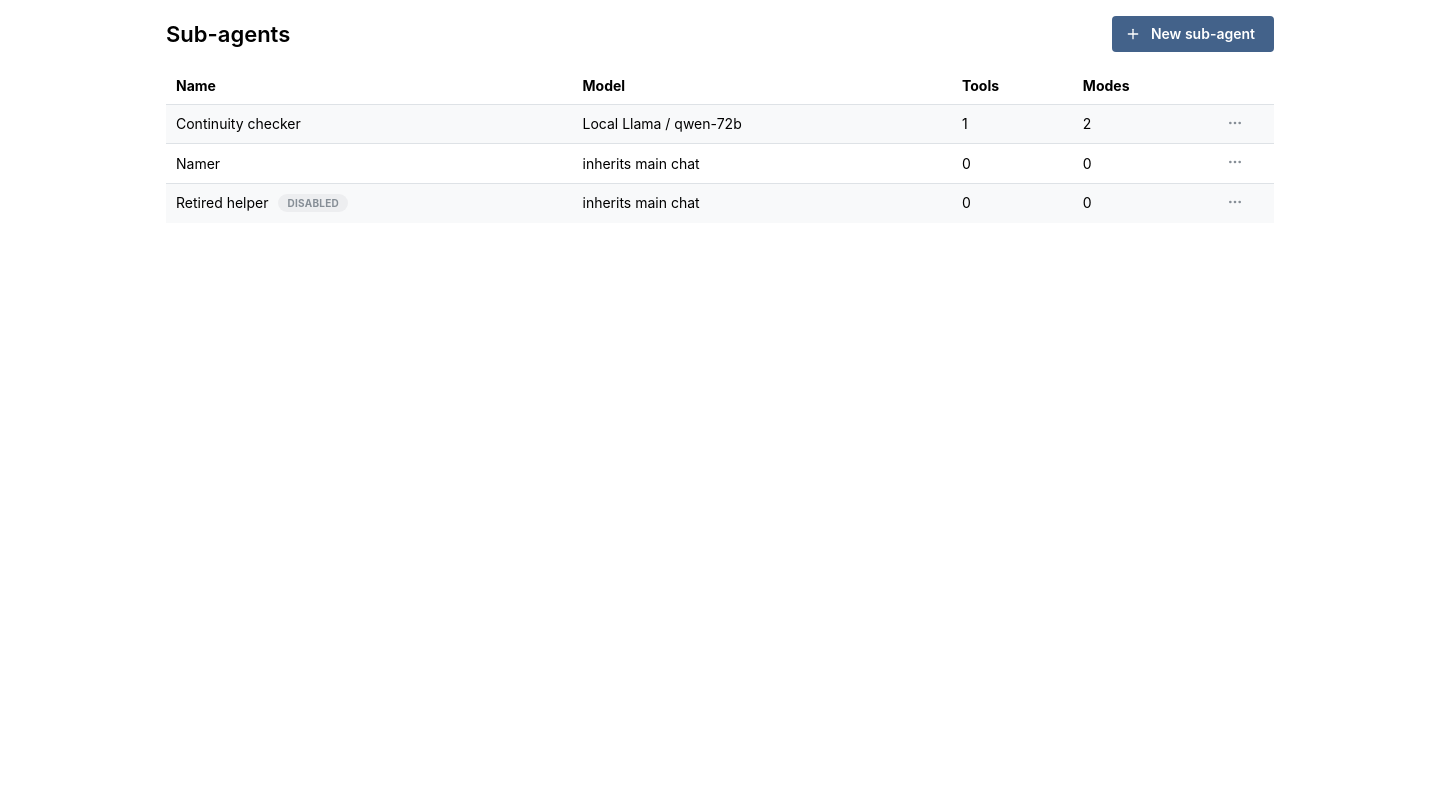
Test case: creating a sub-agent from an empty form (DoD-3) › DoD-3: "New sub-agent" opens an empty create form (UC-096)
Click the button "New sub-agent" at (1193, 34), box [1112,16,1274,52]
(page scrolled)
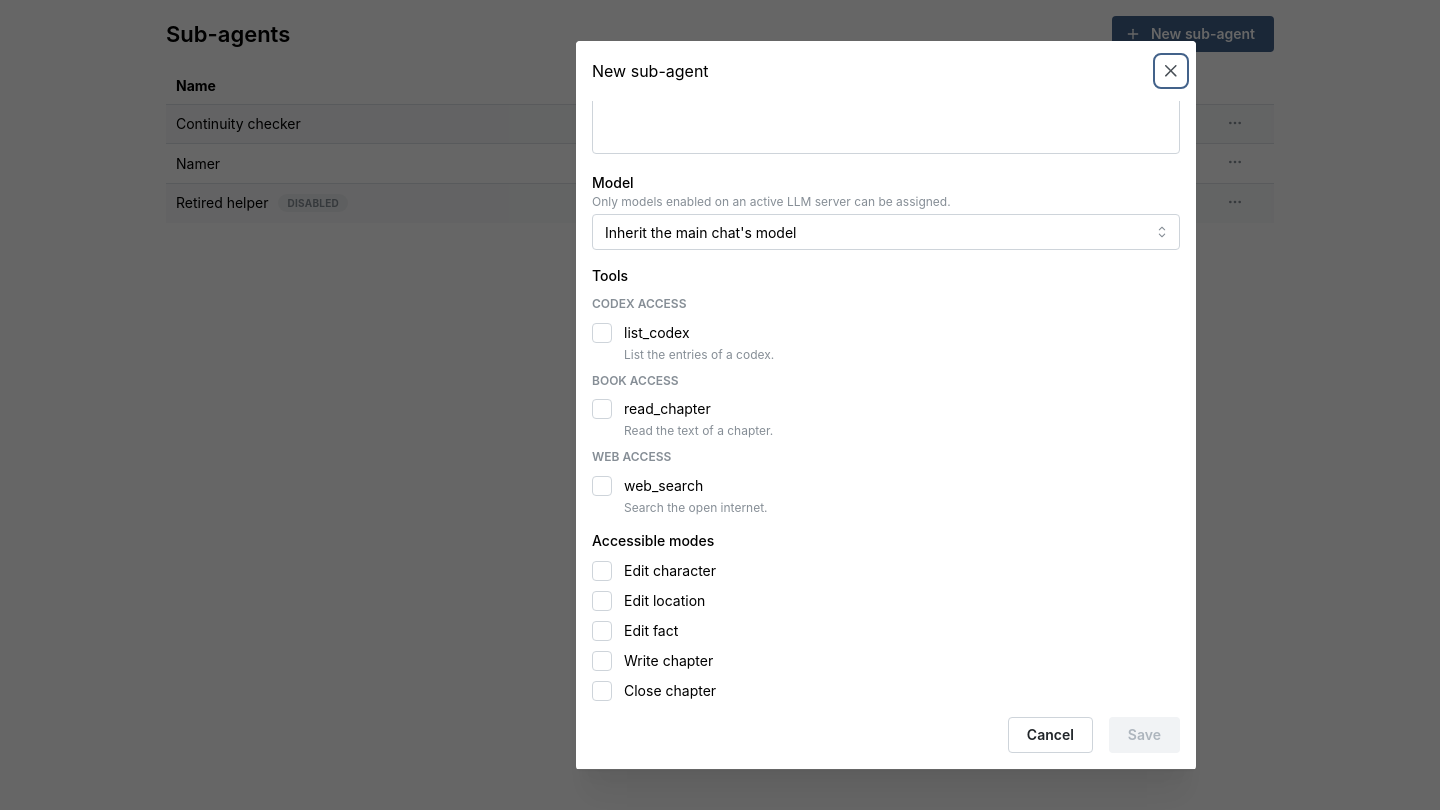
Check: the heading "New sub-agent" is shown, box [592,62,709,78]
Check: the text box is empty, box [592,40,1180,154]
Check: the checkbox labelled "list_codex" is not checked, box [592,323,612,343]
